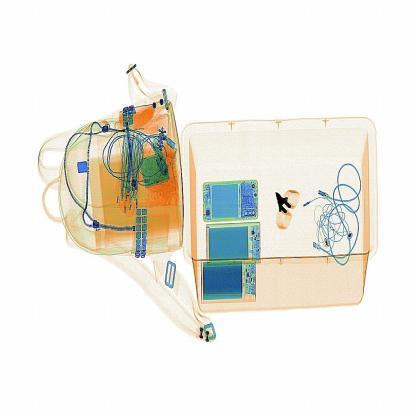gun: (268, 174, 307, 241)
